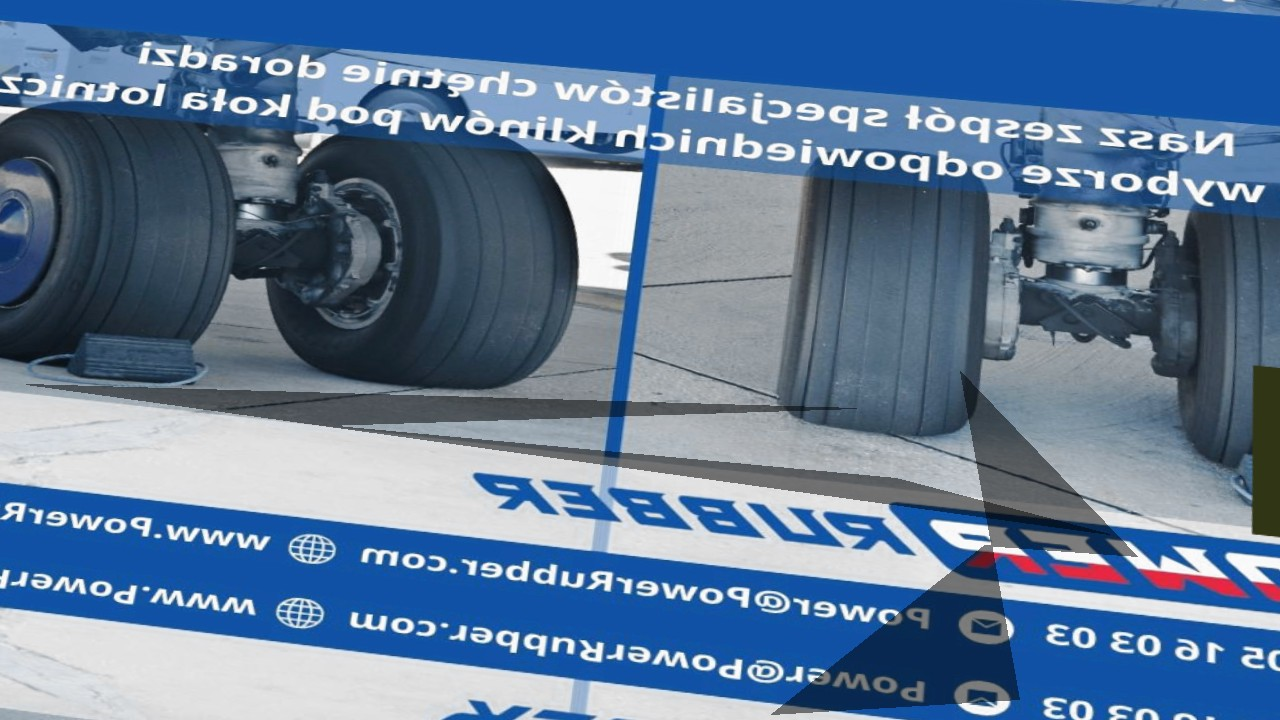chock: (59, 325, 208, 392), (1221, 445, 1280, 527)
wheel: (246, 118, 599, 402), (765, 142, 1022, 444), (0, 95, 266, 381), (1144, 173, 1280, 489), (346, 75, 478, 140)
